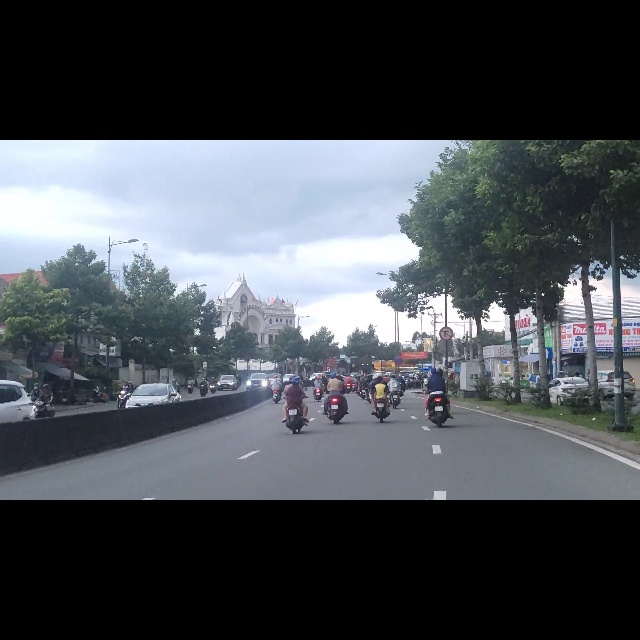bien_cam: (439, 331, 453, 357), (543, 367, 552, 390)
